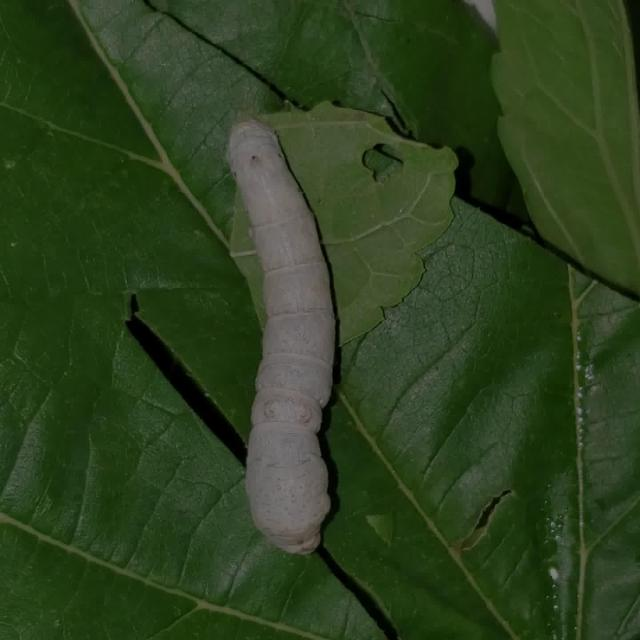Healthy: (211, 112, 376, 564)
